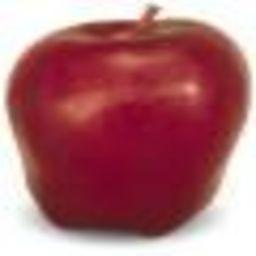apple: (5, 14, 249, 235)
